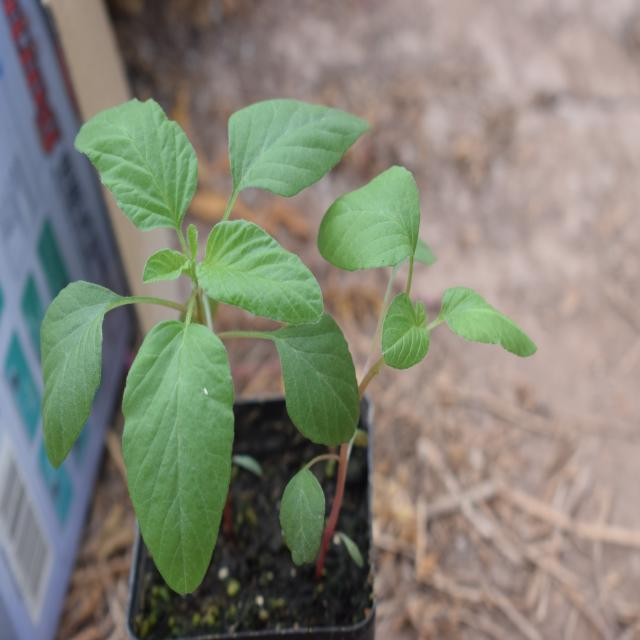pigweed: (56, 100, 368, 562), (320, 166, 526, 448)
